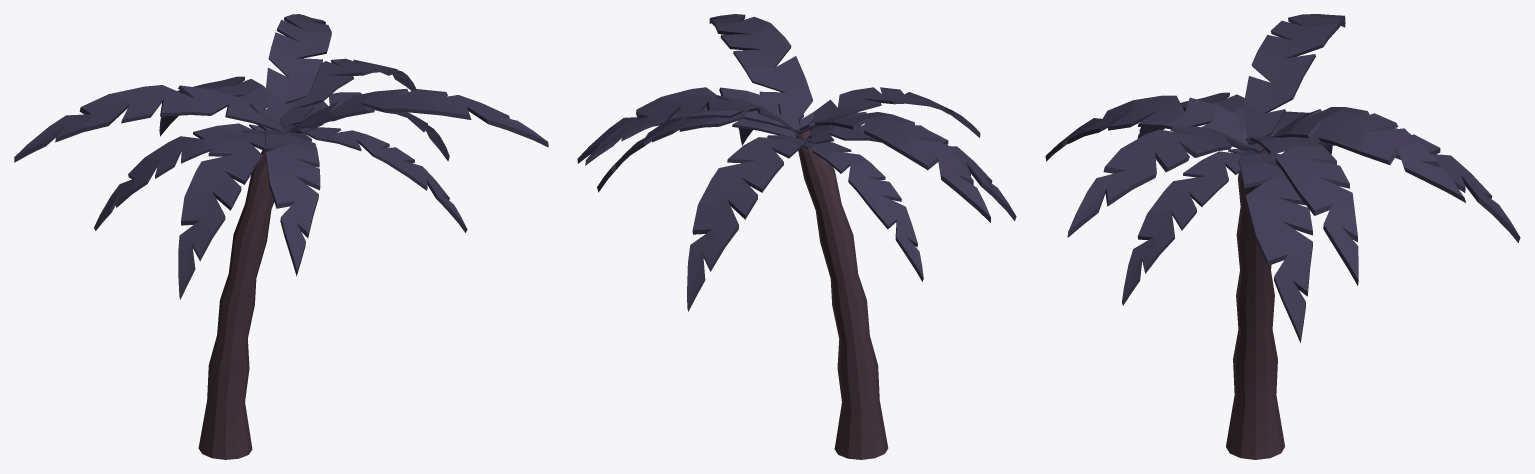
Rendered from tree_2.fbx.
3 views of the same model, side by side, from view 1: azimuth 30°, elevation 25°; view 2: azimuth 150°, elevation 25°; view 3: azimuth 270°, elevation 25° (orthographic). The views are drawn at different scales.
Parts seen in each view (by area): view 1: tree, leaf8, leaf7, leaf6, leaf10, leaf4, leaf9, leaf5, leaf2, leaf1, leaf3; view 2: tree, leaf1, leaf4, leaf8, leaf9, leaf10, leaf2, leaf6, leaf3, leaf7; view 3: tree, leaf3, leaf8, leaf2, leaf10, leaf4, leaf5, leaf6, leaf1, leaf7.
Boxes of the visible parts, bbox=[...] form: tree: bbox=[198, 148, 278, 459]; leaf8: bbox=[14, 85, 284, 162]; leaf7: bbox=[178, 130, 268, 299]; leaf6: bbox=[264, 129, 320, 275]; leaf10: bbox=[265, 14, 331, 130]; leaf4: bbox=[289, 88, 548, 147]; leaf9: bbox=[94, 123, 264, 230]; leaf5: bbox=[299, 127, 467, 232]; leaf2: bbox=[280, 58, 416, 132]; leaf1: bbox=[159, 76, 271, 136]; leaf3: bbox=[289, 92, 449, 161]; tree: bbox=[795, 130, 888, 459]; leaf1: bbox=[687, 135, 806, 311]; leaf4: bbox=[709, 14, 814, 135]; leaf8: bbox=[798, 111, 990, 222]; leaf9: bbox=[803, 142, 923, 281]; leaf10: bbox=[585, 94, 803, 165]; leaf2: bbox=[577, 87, 803, 163]; leaf6: bbox=[805, 87, 980, 140]; leaf3: bbox=[597, 111, 795, 192]; leaf7: bbox=[806, 124, 1016, 221]; tree: bbox=[1226, 145, 1284, 459]; leaf3: bbox=[1238, 151, 1312, 342]; leaf8: bbox=[1244, 14, 1345, 149]; leaf2: bbox=[1246, 135, 1358, 285]; leaf10: bbox=[1272, 107, 1465, 202]; leaf4: bbox=[1067, 126, 1260, 237]; leaf5: bbox=[1122, 148, 1252, 305]; leaf6: bbox=[1045, 95, 1251, 161]; leaf1: bbox=[1264, 127, 1520, 242]; leaf7: bbox=[1137, 92, 1272, 138].
Bounding box in the file's own units: 468 × 383 × 421.
